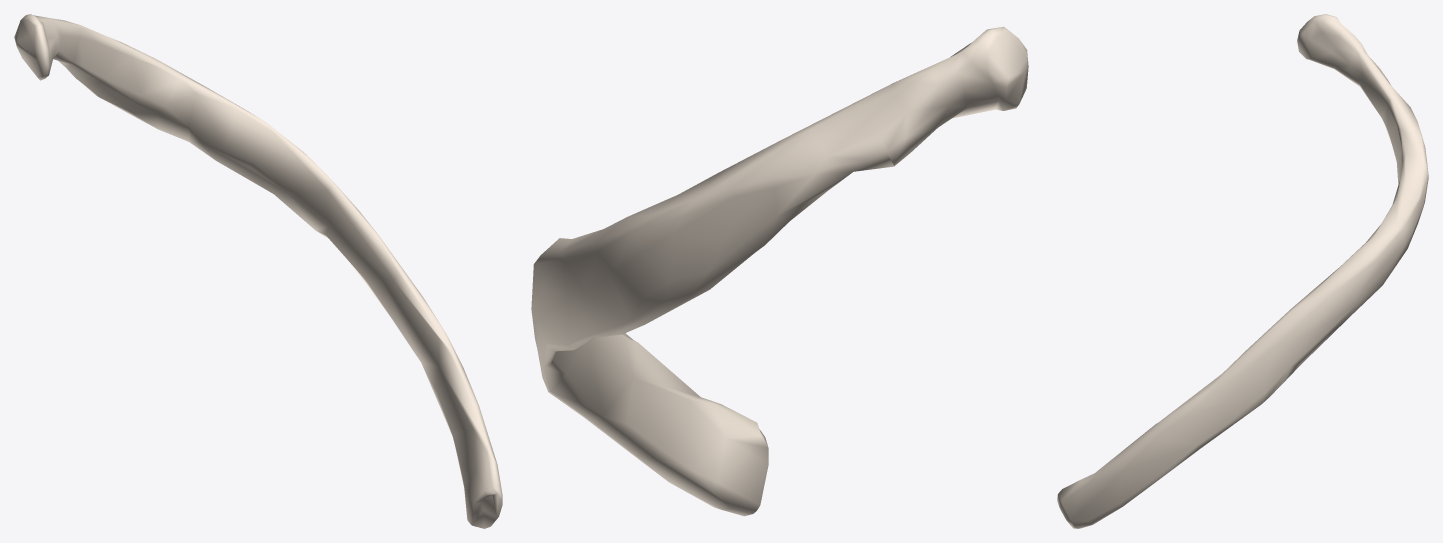
The model's file is left_rib_9.glb.
3 views of the same model, side by side, from view 1: azimuth 30°, elevation 25°; view 2: azimuth 150°, elevation 25°; view 3: azimuth 270°, elevation 25° (orthographic). The views are drawn at different scales.
Visible parts, largest first — view 1: Rib (9th).r; view 2: Rib (9th).r; view 3: Rib (9th).r.
Boxes of the visible parts, <box> form: Rib (9th).r: <box>14,14,502,528</box>; Rib (9th).r: <box>531,26,1028,516</box>; Rib (9th).r: <box>1057,14,1428,528</box>.
Bounding box in the file's own units: 0.1161 × 0.155 × 0.1329.
